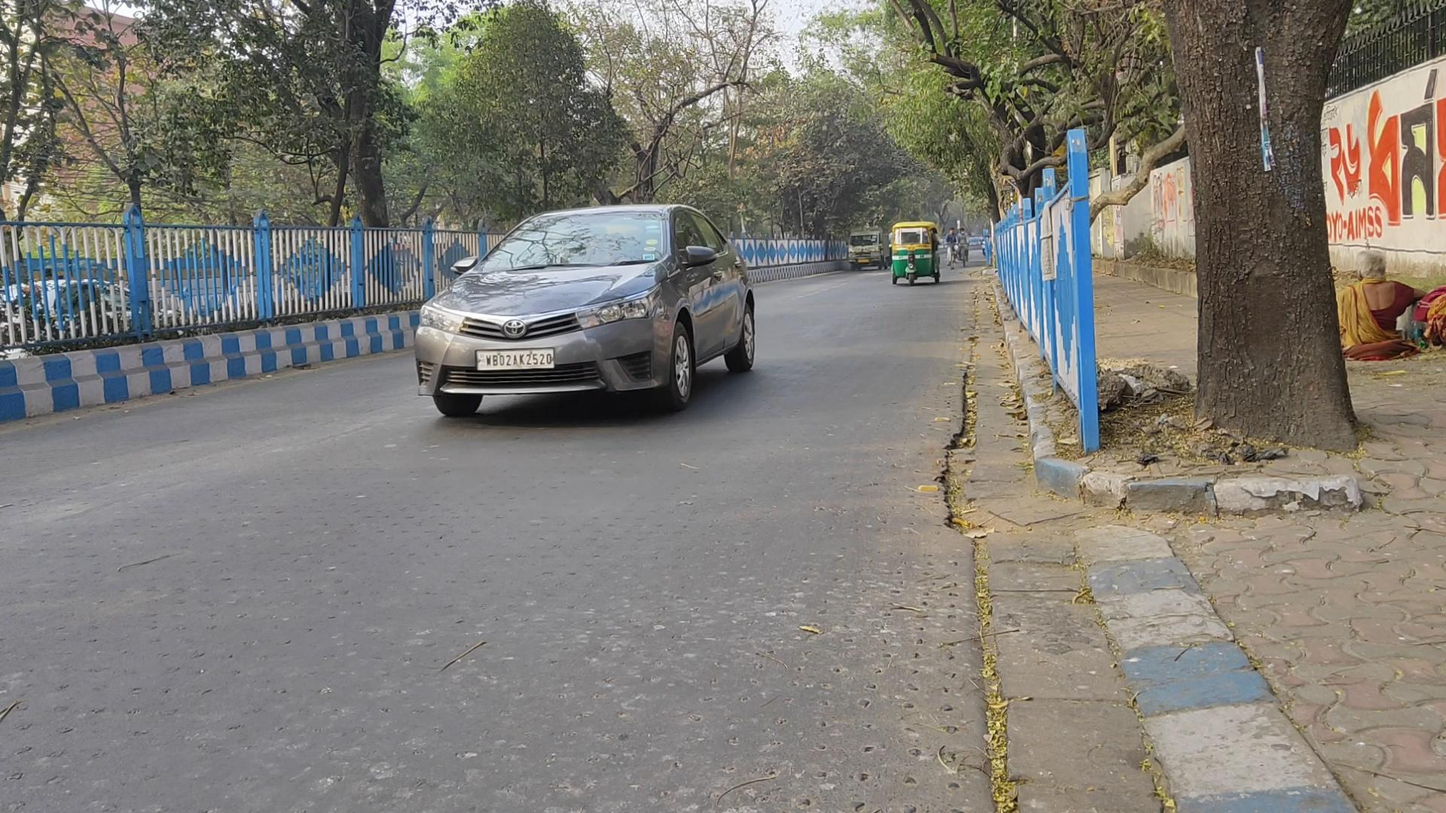Auto: (888, 221, 941, 288)
bike: (956, 227, 971, 268), (944, 228, 957, 269)
car: (413, 202, 755, 419)
van: (844, 226, 891, 274)
